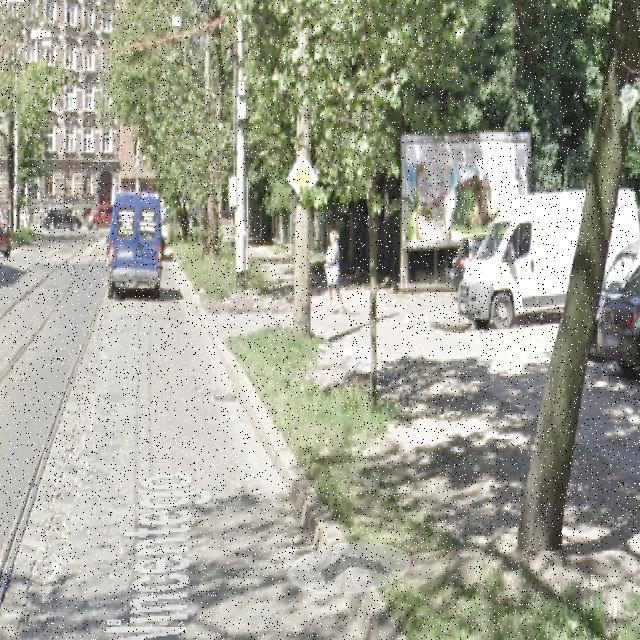Droga z pierwszenstwem: (286, 148, 320, 206)
